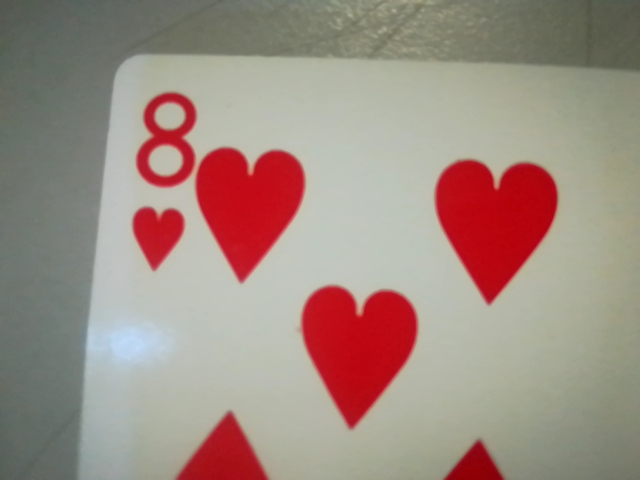hx 8: (116, 80, 204, 282)
